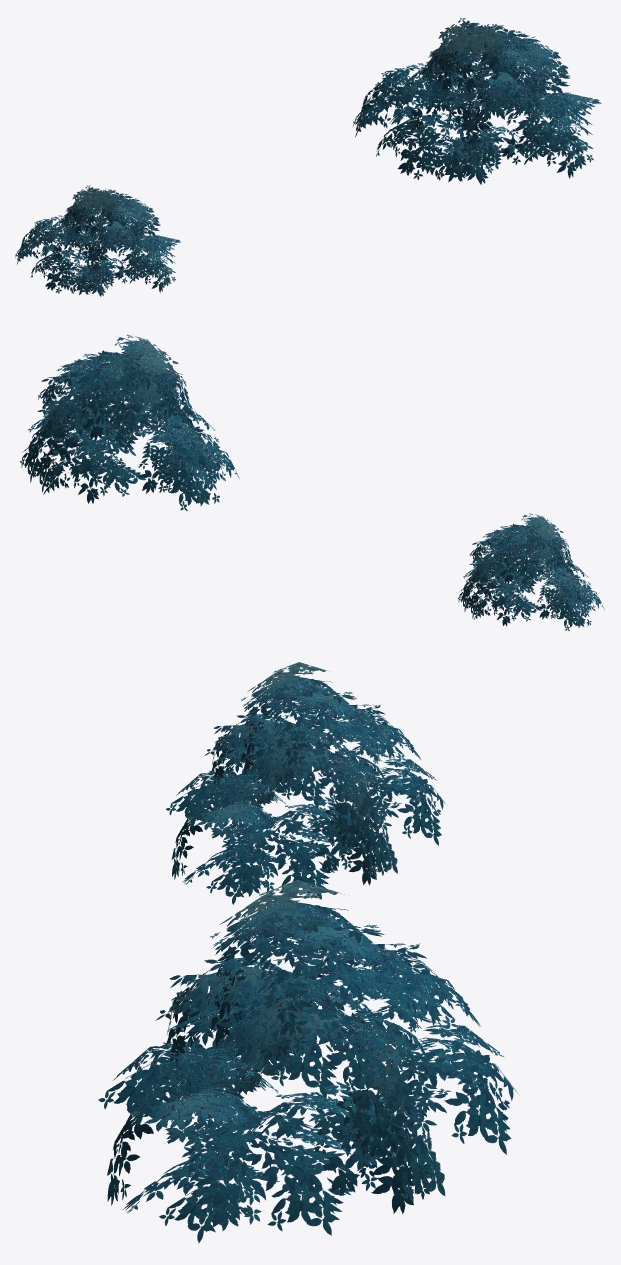
File: Area10_10.FBX
3 renders of one model, top to bottom at view 1: azimuth 30°, elevation 25°; view 2: azimuth 150°, elevation 25°; view 3: azimuth 270°, elevation 25°, orthographic. The views are drawn at different scales.
Visible parts, largest first — view 1: Area10_10; view 2: Area10_10; view 3: Area10_10.
Boxes of the visible parts, box(x1,y1,x2,y2) form: Area10_10: box(15, 18, 601, 296); Area10_10: box(20, 334, 604, 631); Area10_10: box(98, 662, 519, 1243).
Bounding box in the file's own units: 4699 × 1378 × 1646.
